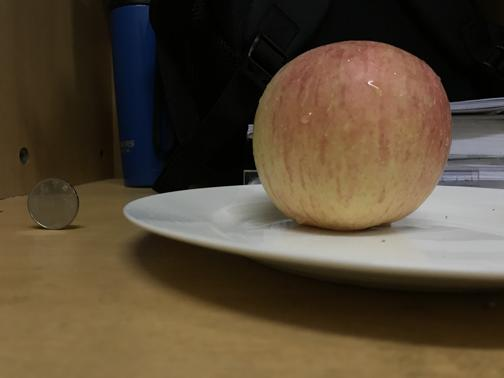apple: (253, 40, 451, 229)
coin: (25, 176, 80, 230)
